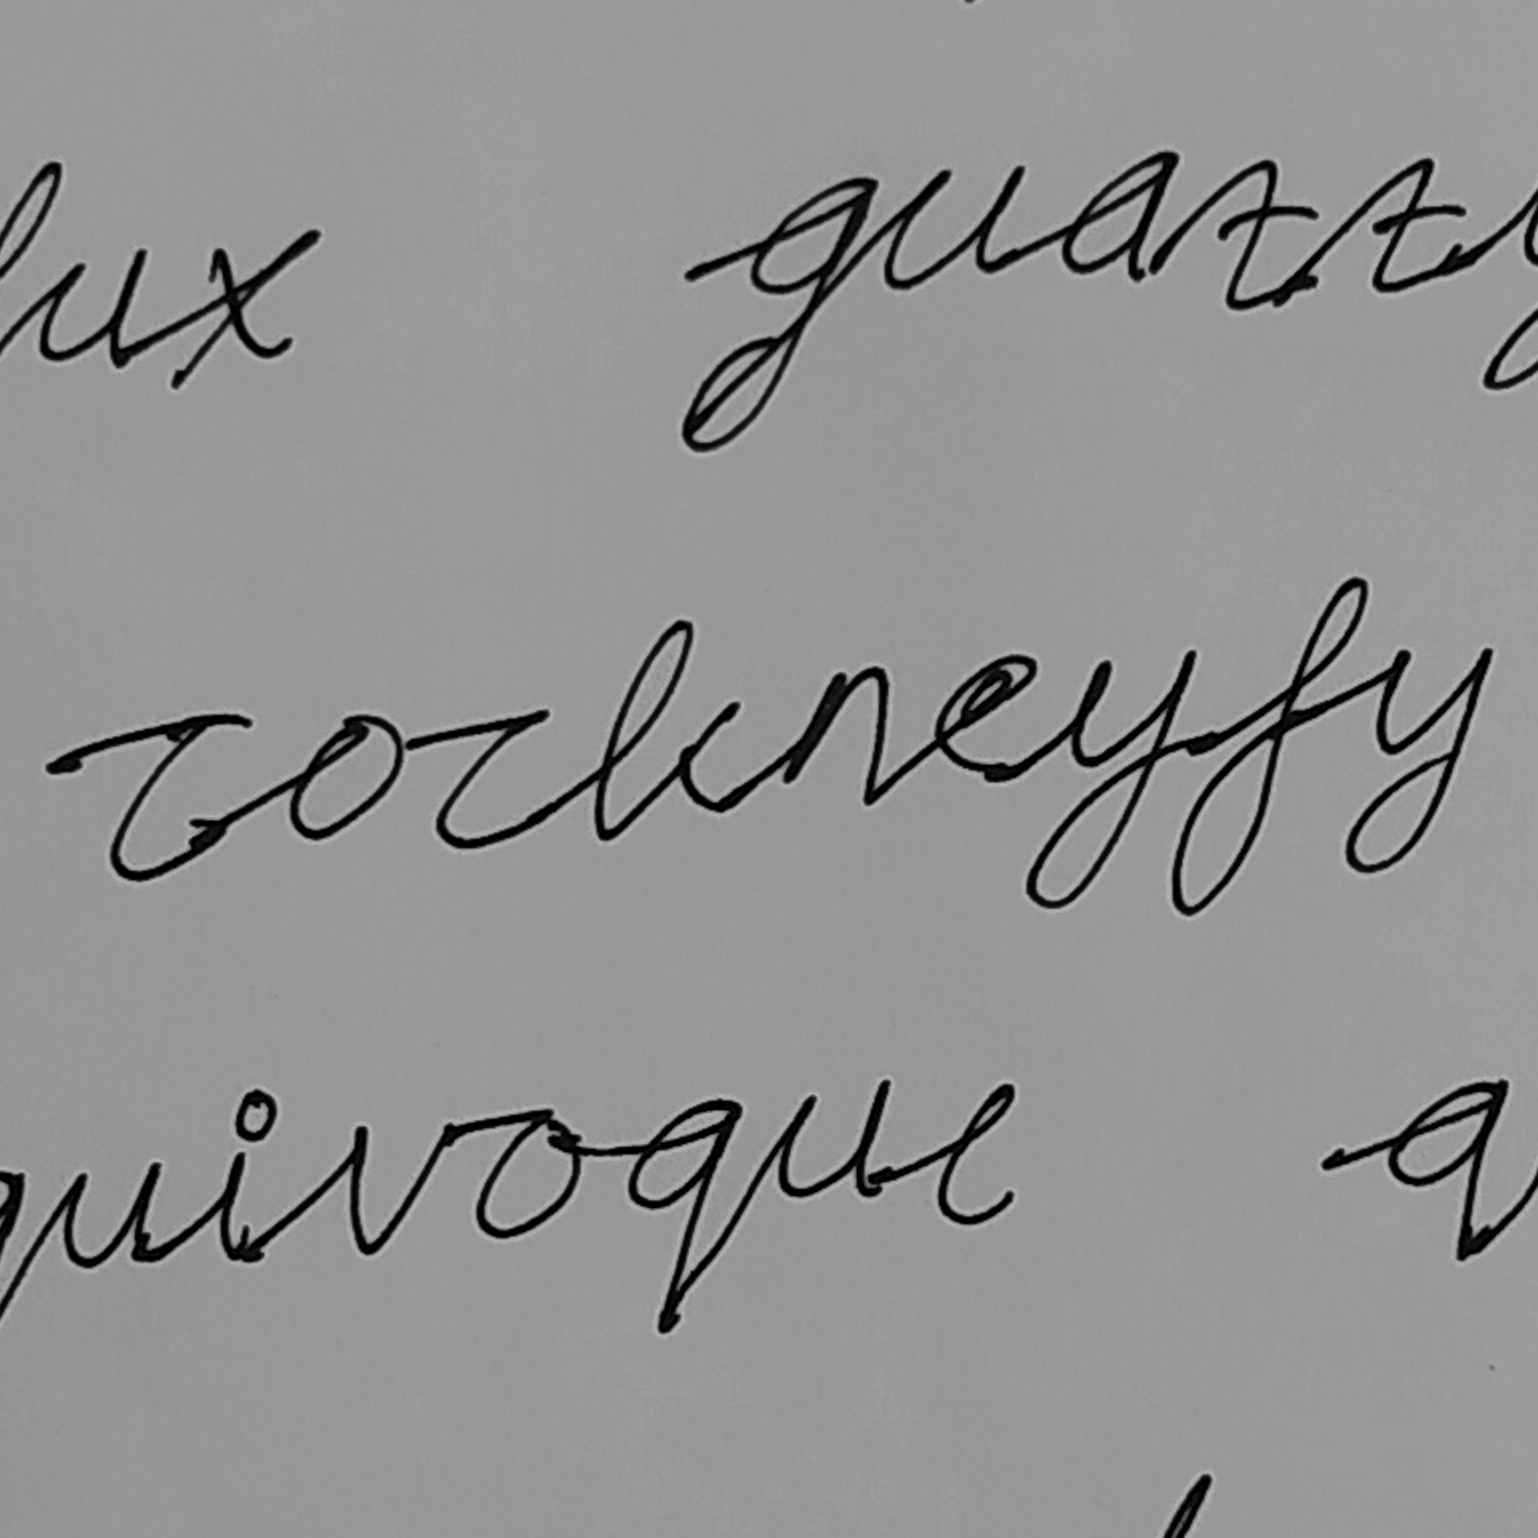c: (101, 706, 259, 887), (431, 703, 561, 855)
e: (930, 646, 1046, 786)
f: (1163, 569, 1372, 915)
k: (584, 614, 746, 849)
n: (779, 656, 894, 808)
o: (283, 710, 410, 846)
y: (1021, 645, 1200, 913), (1341, 638, 1492, 876)
